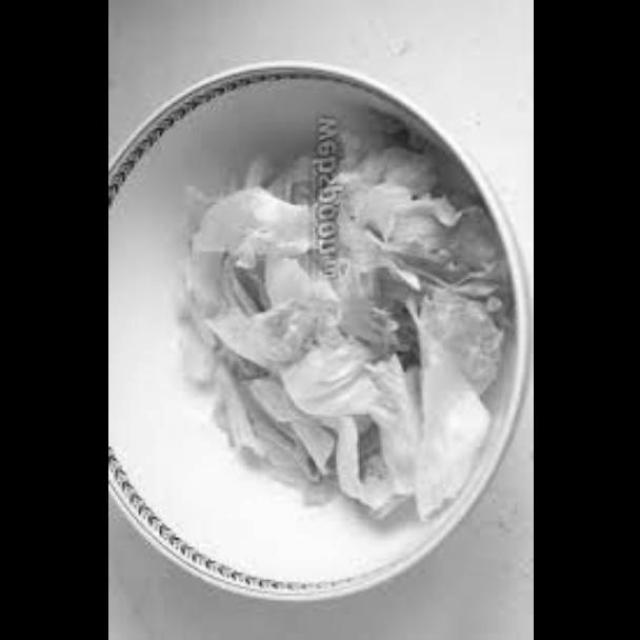salad: (158, 138, 488, 521)
